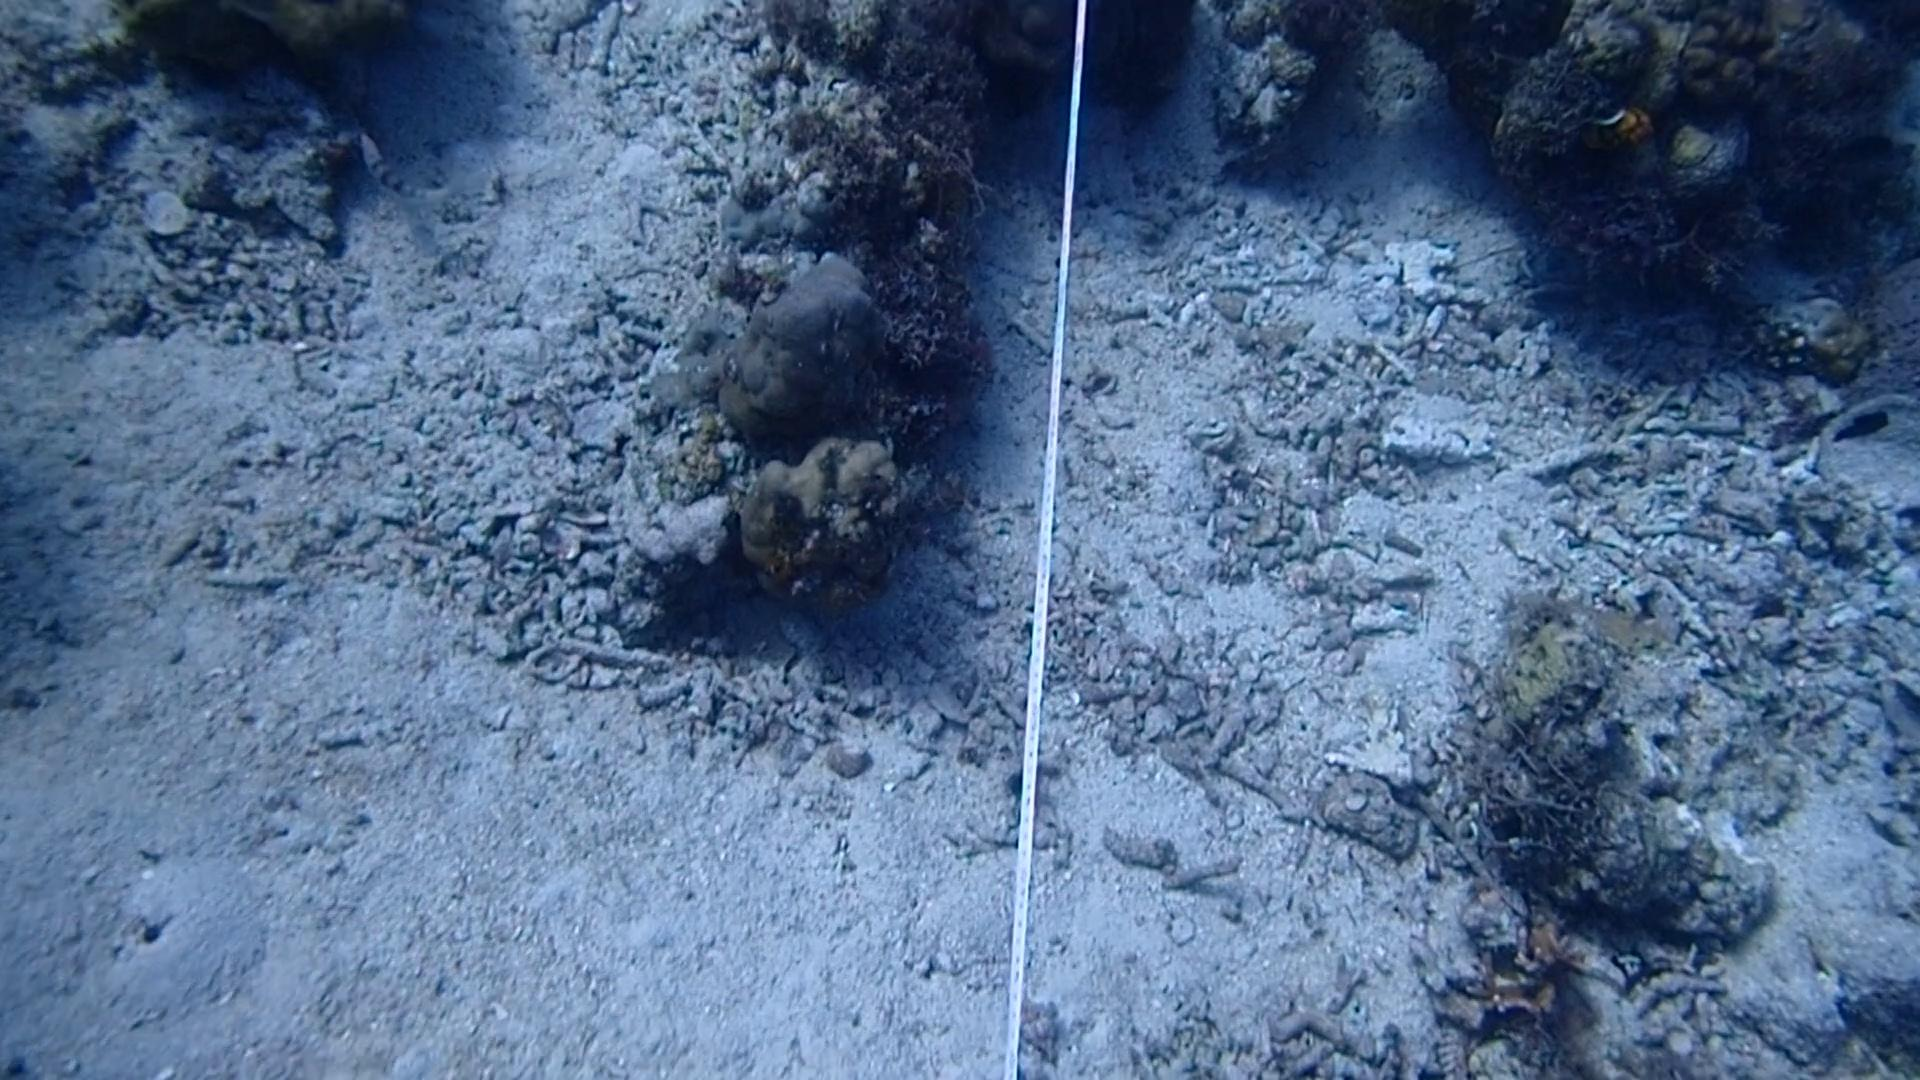Dark Fish: (1824, 400, 1902, 450)
Light Fish w Back Stripes: (352, 120, 460, 210)
